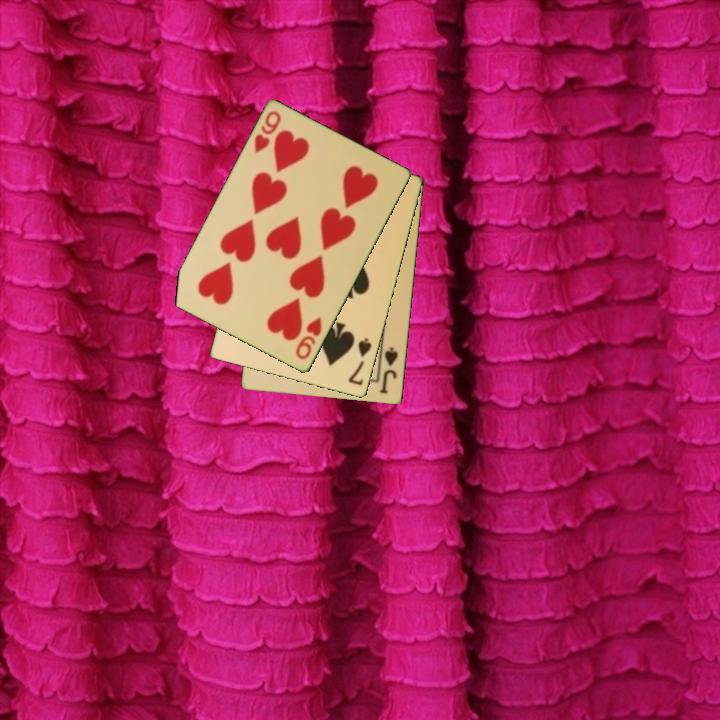7s: (345, 335, 375, 389)
9h: (292, 313, 325, 363), (251, 108, 284, 157)
Js: (376, 344, 401, 397)
